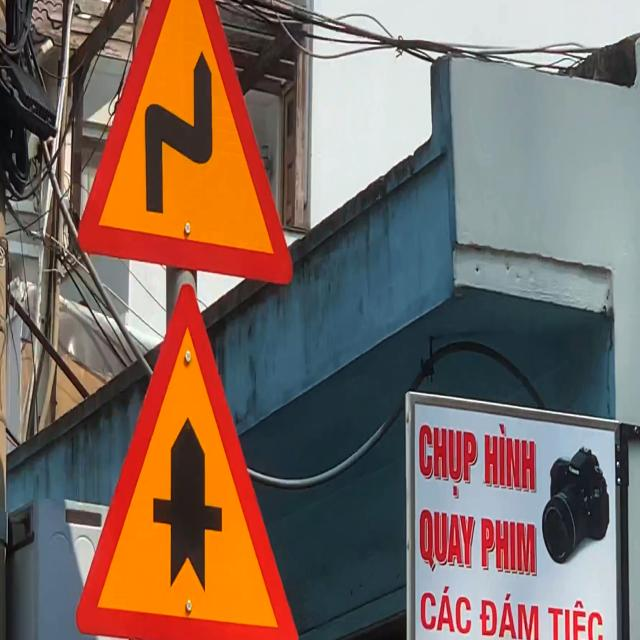Giao voi duong khong uu tien: (71, 279, 305, 640)
Nguy hiem: (72, 0, 300, 294)
